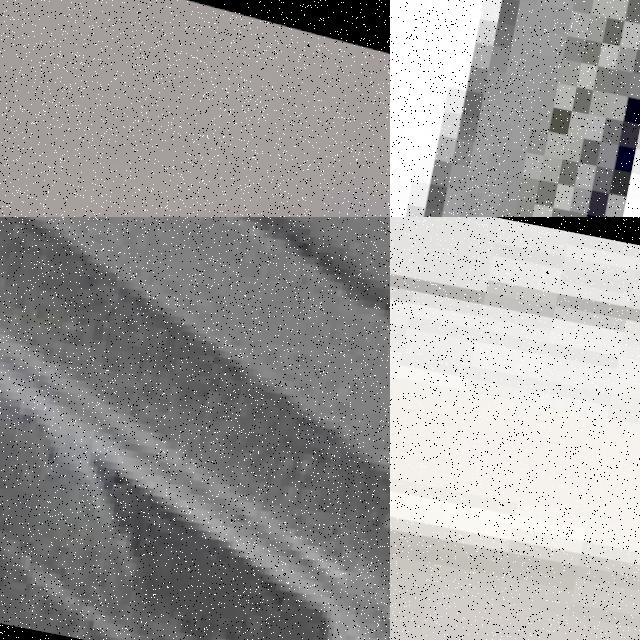0: (0, 0, 390, 217)
drone: (0, 217, 390, 640)
